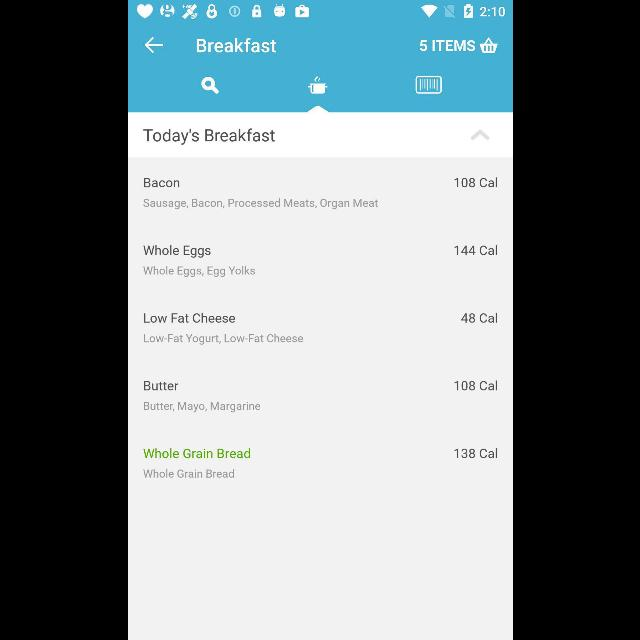icon: (144, 36, 164, 54), (200, 76, 218, 94), (479, 38, 497, 54), (470, 130, 490, 140)
image: (414, 76, 442, 94), (307, 76, 327, 94)
text: (142, 198, 378, 210), (142, 128, 274, 146), (143, 334, 303, 344), (143, 265, 255, 277), (197, 37, 276, 53), (143, 402, 260, 412), (143, 448, 250, 458), (143, 313, 234, 323), (142, 246, 210, 258), (143, 469, 233, 478), (419, 39, 475, 51), (454, 244, 496, 256), (454, 448, 496, 458), (454, 380, 496, 390), (454, 178, 496, 188), (143, 178, 179, 188), (461, 313, 497, 323), (144, 381, 178, 391)
uppertaskbar: (128, 1, 512, 21)
